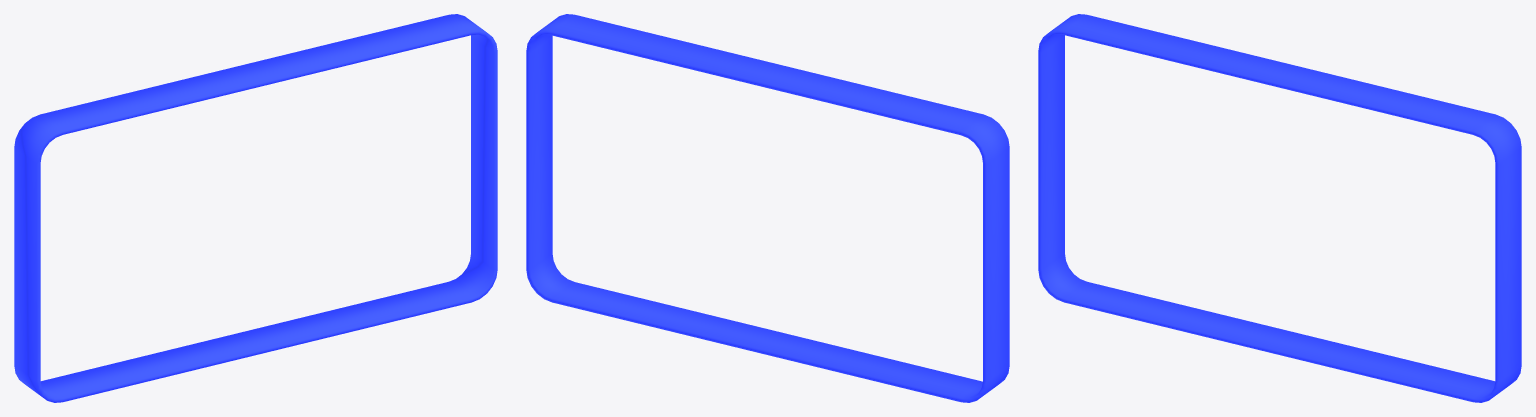
The model's file is Square_Rim_Blue.gltf.
The picture shows the model from 3 angles, left to right: view 1: azimuth 30°, elevation 25°; view 2: azimuth 150°, elevation 25°; view 3: azimuth 330°, elevation 25°; orthographic projection.
Parts seen in each view (by area): view 1: Plane; view 2: Plane; view 3: Plane.
Boxes of the visible parts, x1=… form: Plane: x1=14, y1=14, x2=497, y2=402; Plane: x1=526, y1=14, x2=1009, y2=402; Plane: x1=1038, y1=14, x2=1521, y2=402.
Size of the model in its own units: 3.56 by 2 by 0.3.
